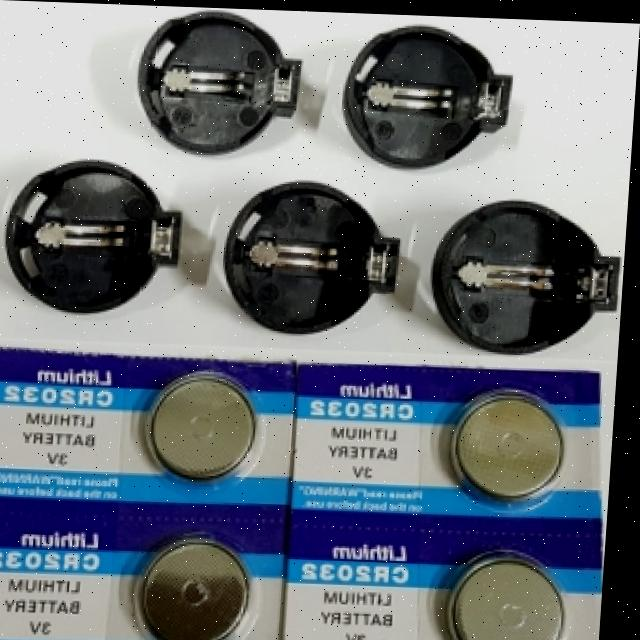battery: (444, 389, 570, 513), (145, 369, 260, 486), (135, 532, 256, 640), (442, 547, 571, 640)
